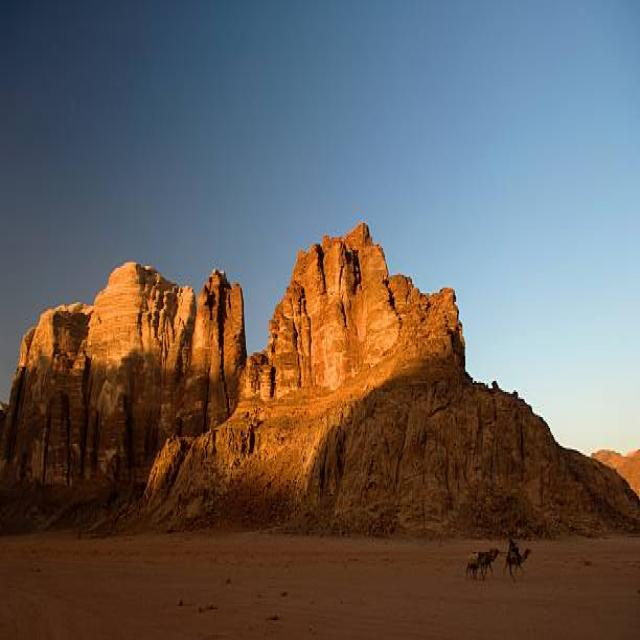Sedimentary: (159, 228, 637, 543), (1, 246, 249, 528)
